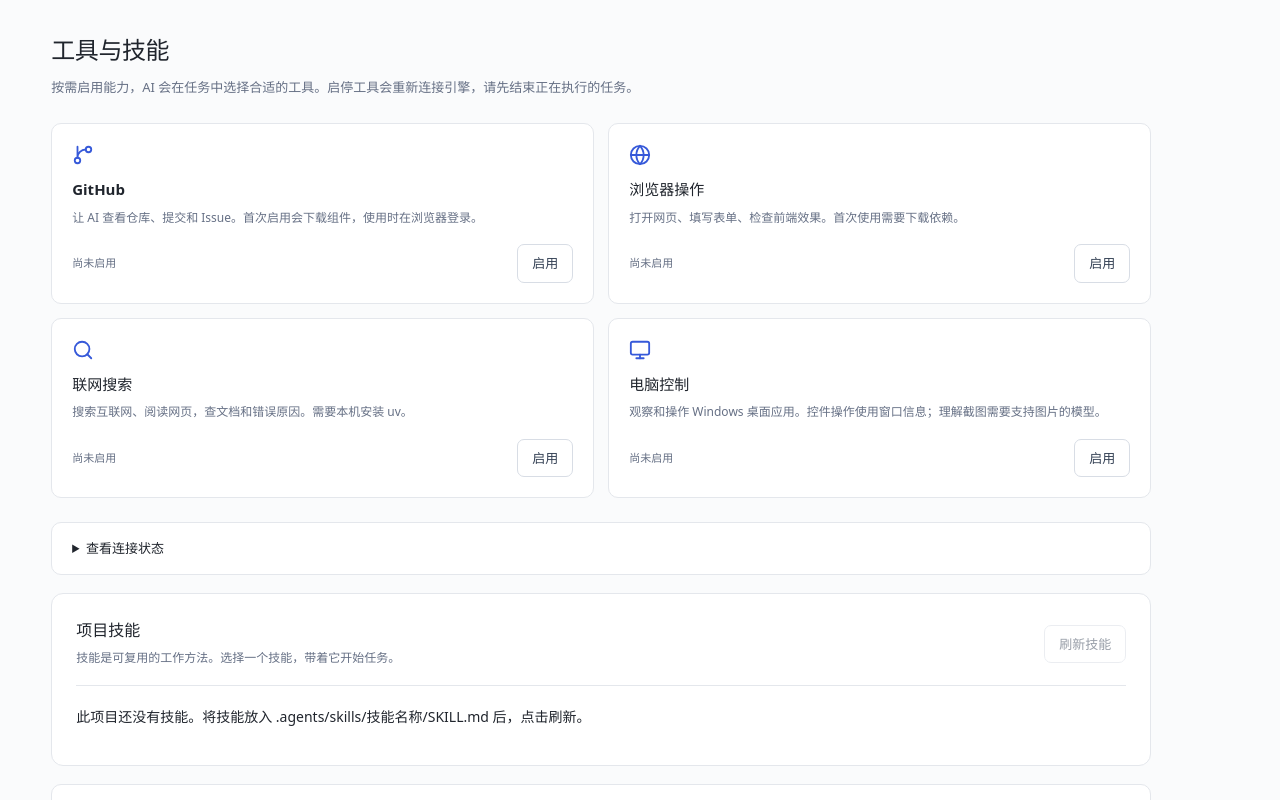
Test: 保存后重连失败以重新读取的配置为准，并明确显示连接失败
This screenshot has width=1280, height=800.
Click the switch named "浏览器操作" at x=1102, y=264, box [1074,244,1130,283]
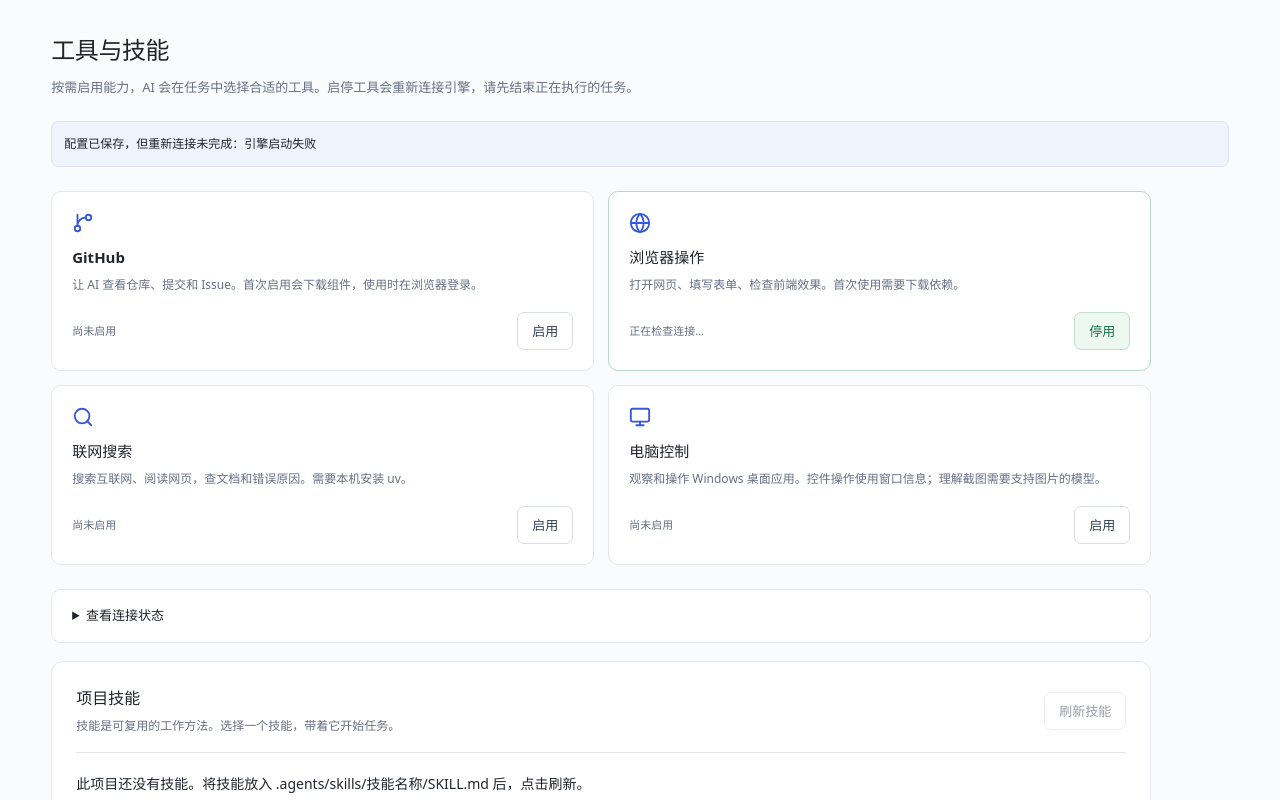
Expected: the switch named "浏览器操作" is checked, [1074,312,1130,350]
Expected: the text "配置已保存，但重新连接未完成：引擎启动失败" is shown, [51,121,1229,167]
